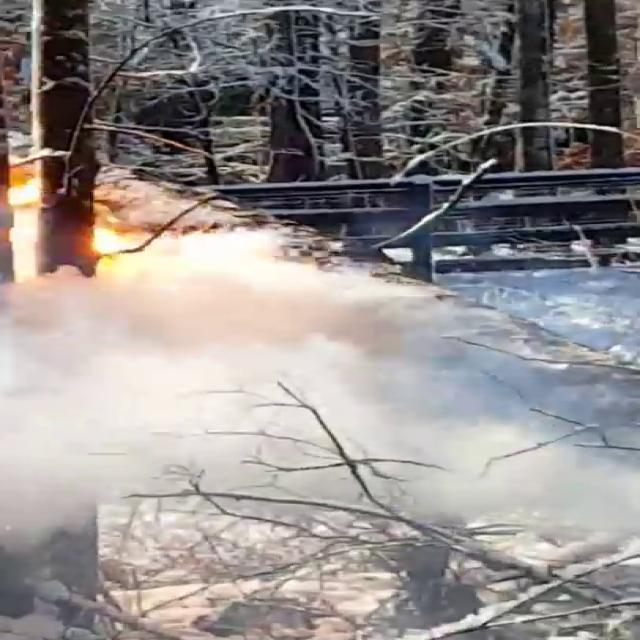Smoke: (2, 206, 620, 623)
